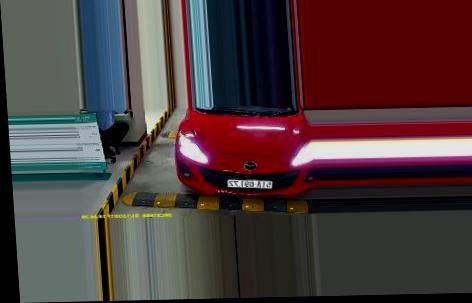License_Plate: (224, 176, 276, 190)
